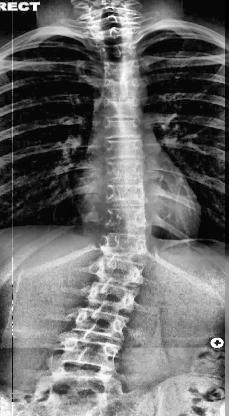Vertebrae: (54, 332, 121, 372), (70, 305, 132, 341), (88, 256, 148, 288), (96, 230, 154, 262), (84, 281, 140, 313), (99, 204, 154, 234), (98, 156, 150, 186), (97, 180, 152, 208), (99, 137, 153, 161), (97, 74, 147, 98), (100, 96, 146, 120), (94, 42, 148, 60), (83, 14, 141, 30), (98, 119, 144, 139), (87, 26, 142, 42), (100, 58, 148, 76), (82, 6, 140, 18)
